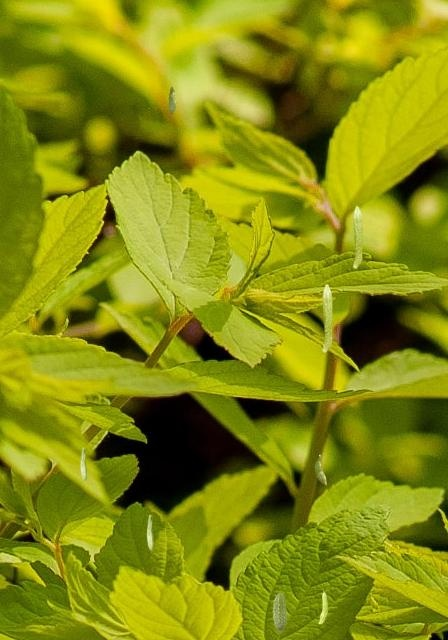ampalaya: (322, 284, 332, 352), (352, 205, 362, 269), (272, 592, 287, 633), (314, 454, 327, 485), (318, 590, 328, 624), (167, 86, 177, 115), (146, 514, 154, 550), (80, 447, 87, 481)
